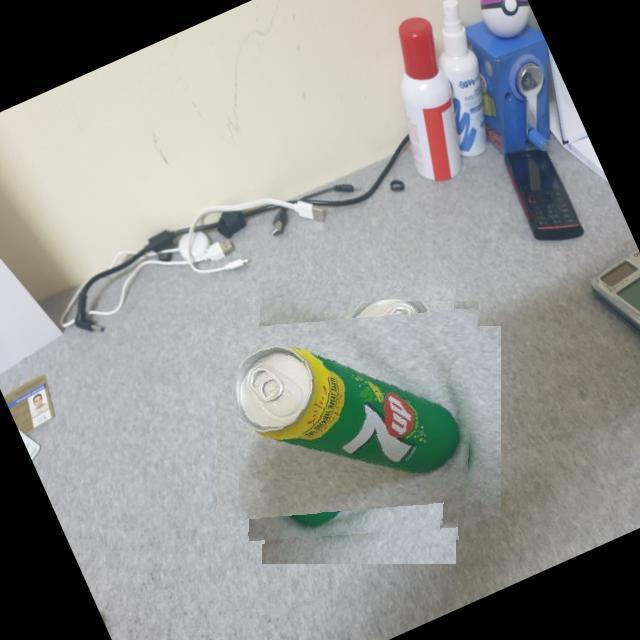recyclable: (239, 301, 480, 543)
